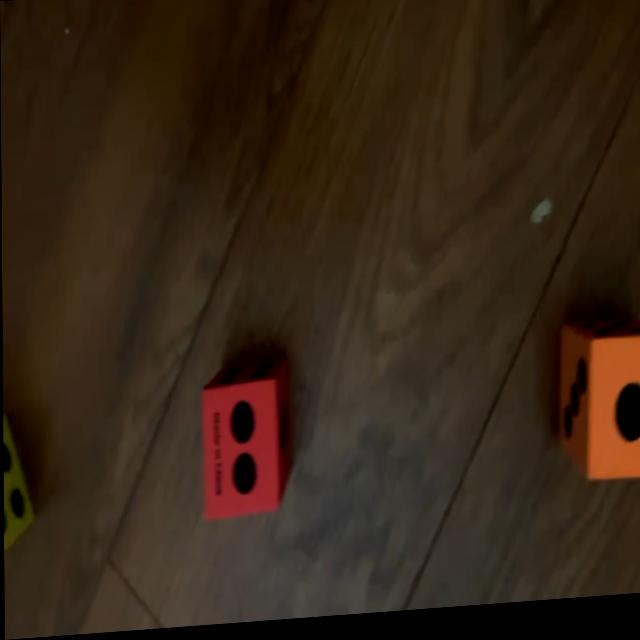cube: (202, 369, 292, 520)
